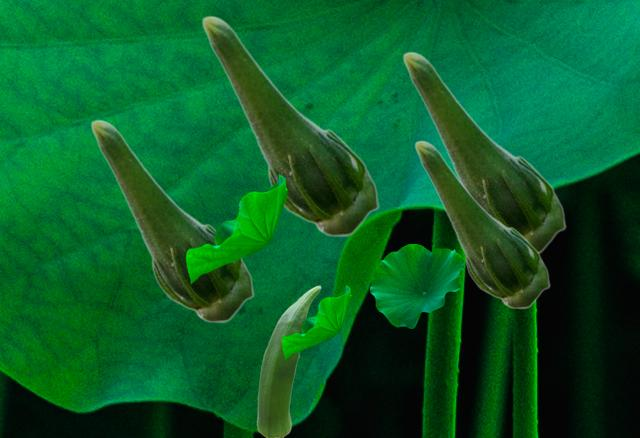okra: (201, 15, 378, 236), (90, 119, 253, 322), (402, 51, 565, 253), (414, 140, 549, 308), (256, 285, 320, 436)
